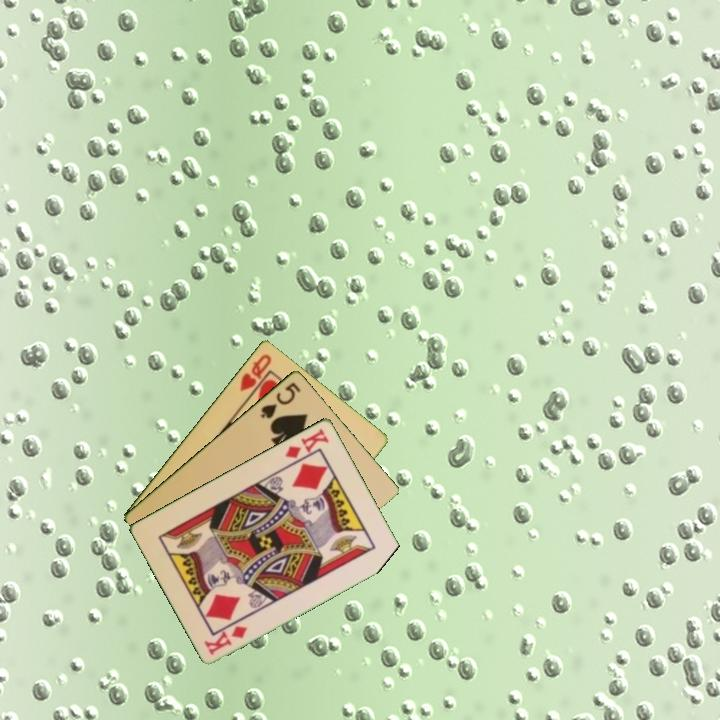5s: (257, 378, 303, 421)
Kd: (281, 424, 332, 461), (201, 622, 250, 658)
Qh: (236, 350, 274, 394)
